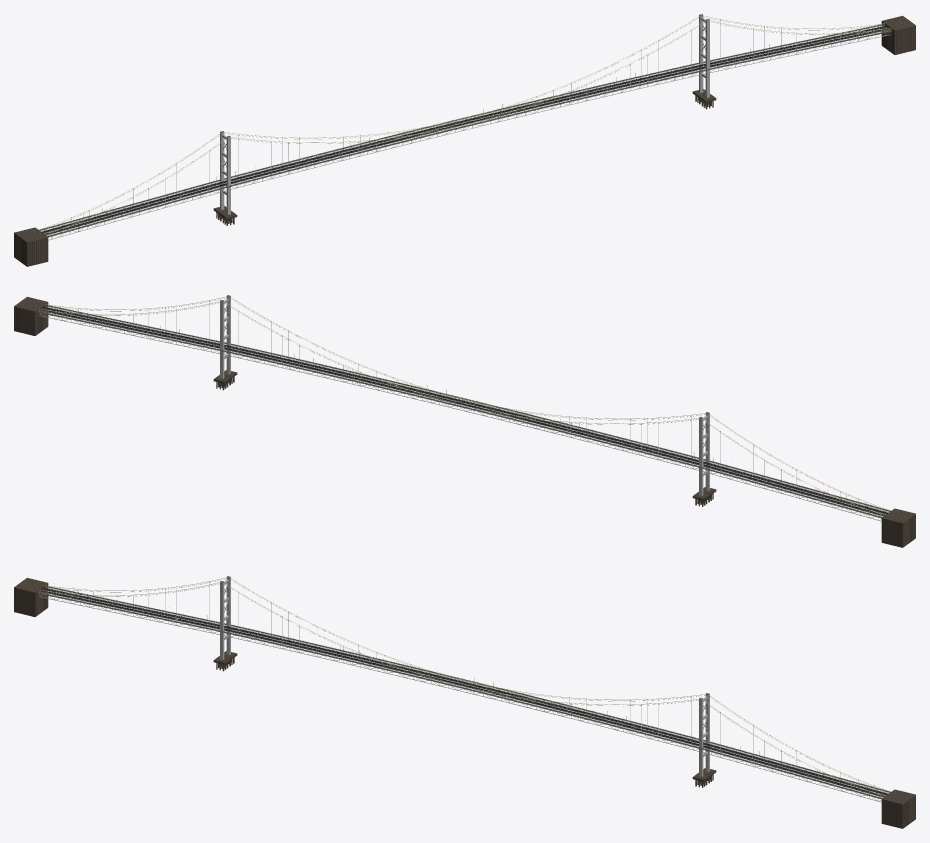
The model's file is suspension.glb.
The picture shows the model from 3 angles, top to bottom: view 1: azimuth 30°, elevation 25°; view 2: azimuth 150°, elevation 25°; view 3: azimuth 330°, elevation 25°; orthographic projection.
Parts seen in each view (by area): view 1: CableAnchorage_0, CableAnchorage_1, MainCable_-11.887, MainCable_11.887; view 2: CableAnchorage_0, CableAnchorage_1, MainCable_11.887, MainCable_-11.887; view 3: CableAnchorage_1, CableAnchorage_0, MainCable_-11.887, MainCable_11.887.
Boxes of the visible parts, x1,y1,x2,y2 form: CableAnchorage_0: [14, 227, 48, 266]; CableAnchorage_1: [881, 15, 915, 54]; MainCable_-11.887: [45, 20, 891, 234]; MainCable_11.887: [39, 15, 884, 229]; CableAnchorage_0: [881, 508, 915, 547]; CableAnchorage_1: [14, 296, 48, 335]; MainCable_11.887: [38, 301, 884, 515]; MainCable_-11.887: [45, 296, 890, 510]; CableAnchorage_1: [881, 789, 915, 828]; CableAnchorage_0: [14, 577, 48, 616]; MainCable_-11.887: [38, 582, 884, 796]; MainCable_11.887: [45, 577, 890, 791].
Size of the model in its own units: 1867 by 175 by 48.
Materials: 11 (2 with a texture image).
